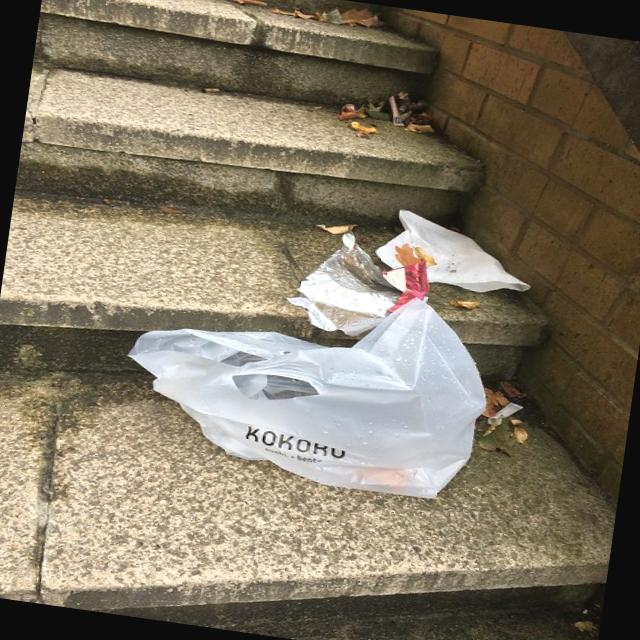Trash: (115, 175, 540, 512)
